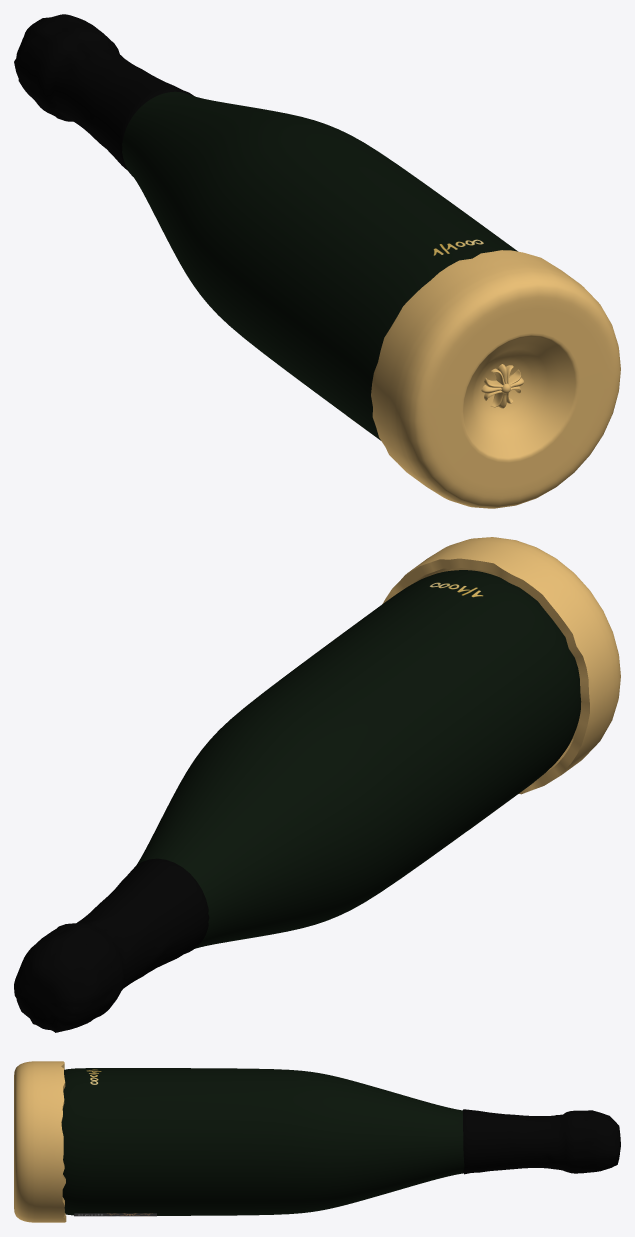
File: KxCHBottle8.glb
3 views of the same model, one above another, from view 1: azimuth 30°, elevation 25°; view 2: azimuth 150°, elevation 25°; view 3: azimuth 270°, elevation 25° (orthographic). The views are drawn at different scales.
Visible parts, largest first — view 1: OG, Base without top.002, Cylinder.007, object_3; view 2: OG, Cylinder.007, Base without top.002; view 3: OG, Cylinder.007, Base without top.002, Plane.001.
Boxes of the visible parts, left/top/right/bottom form: OG: left=122, top=91, right=517, bottom=440; Base without top.002: left=371, top=250, right=620, bottom=508; Cylinder.007: left=14, top=14, right=194, bottom=176; object_3: left=481, top=364, right=524, bottom=408; OG: left=136, top=570, right=581, bottom=948; Cylinder.007: left=14, top=858, right=209, bottom=1032; Base without top.002: left=382, top=537, right=620, bottom=794; OG: left=61, top=1068, right=464, bottom=1215; Cylinder.007: left=463, top=1109, right=620, bottom=1174; Base without top.002: left=14, top=1061, right=66, bottom=1222; Plane.001: left=74, top=1213, right=156, bottom=1216.
Bounding box in the file's own units: 0.7213 × 0.7281 × 2.73.
Materials: 7 (2 with a texture image).
